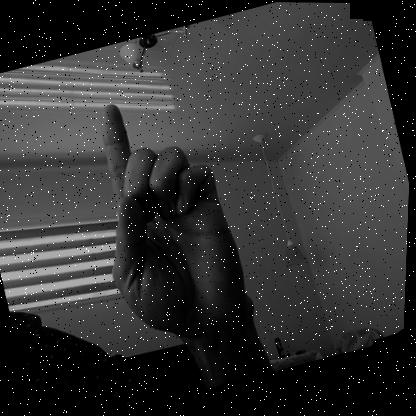D: (68, 76, 268, 357)
